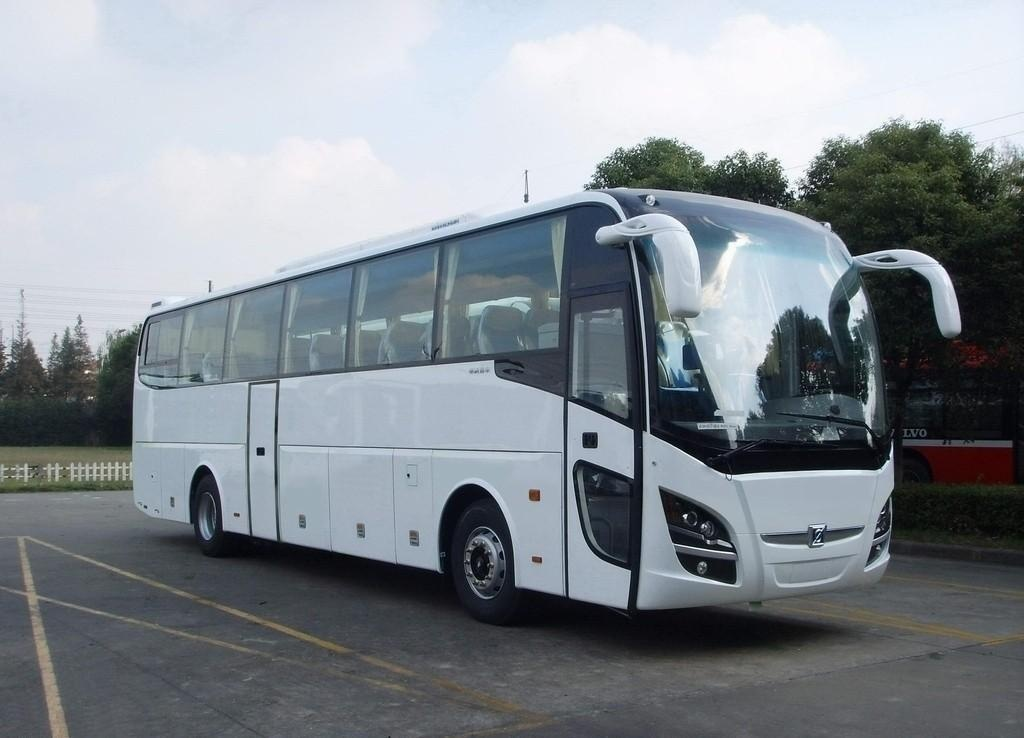bus: (117, 193, 946, 628)
